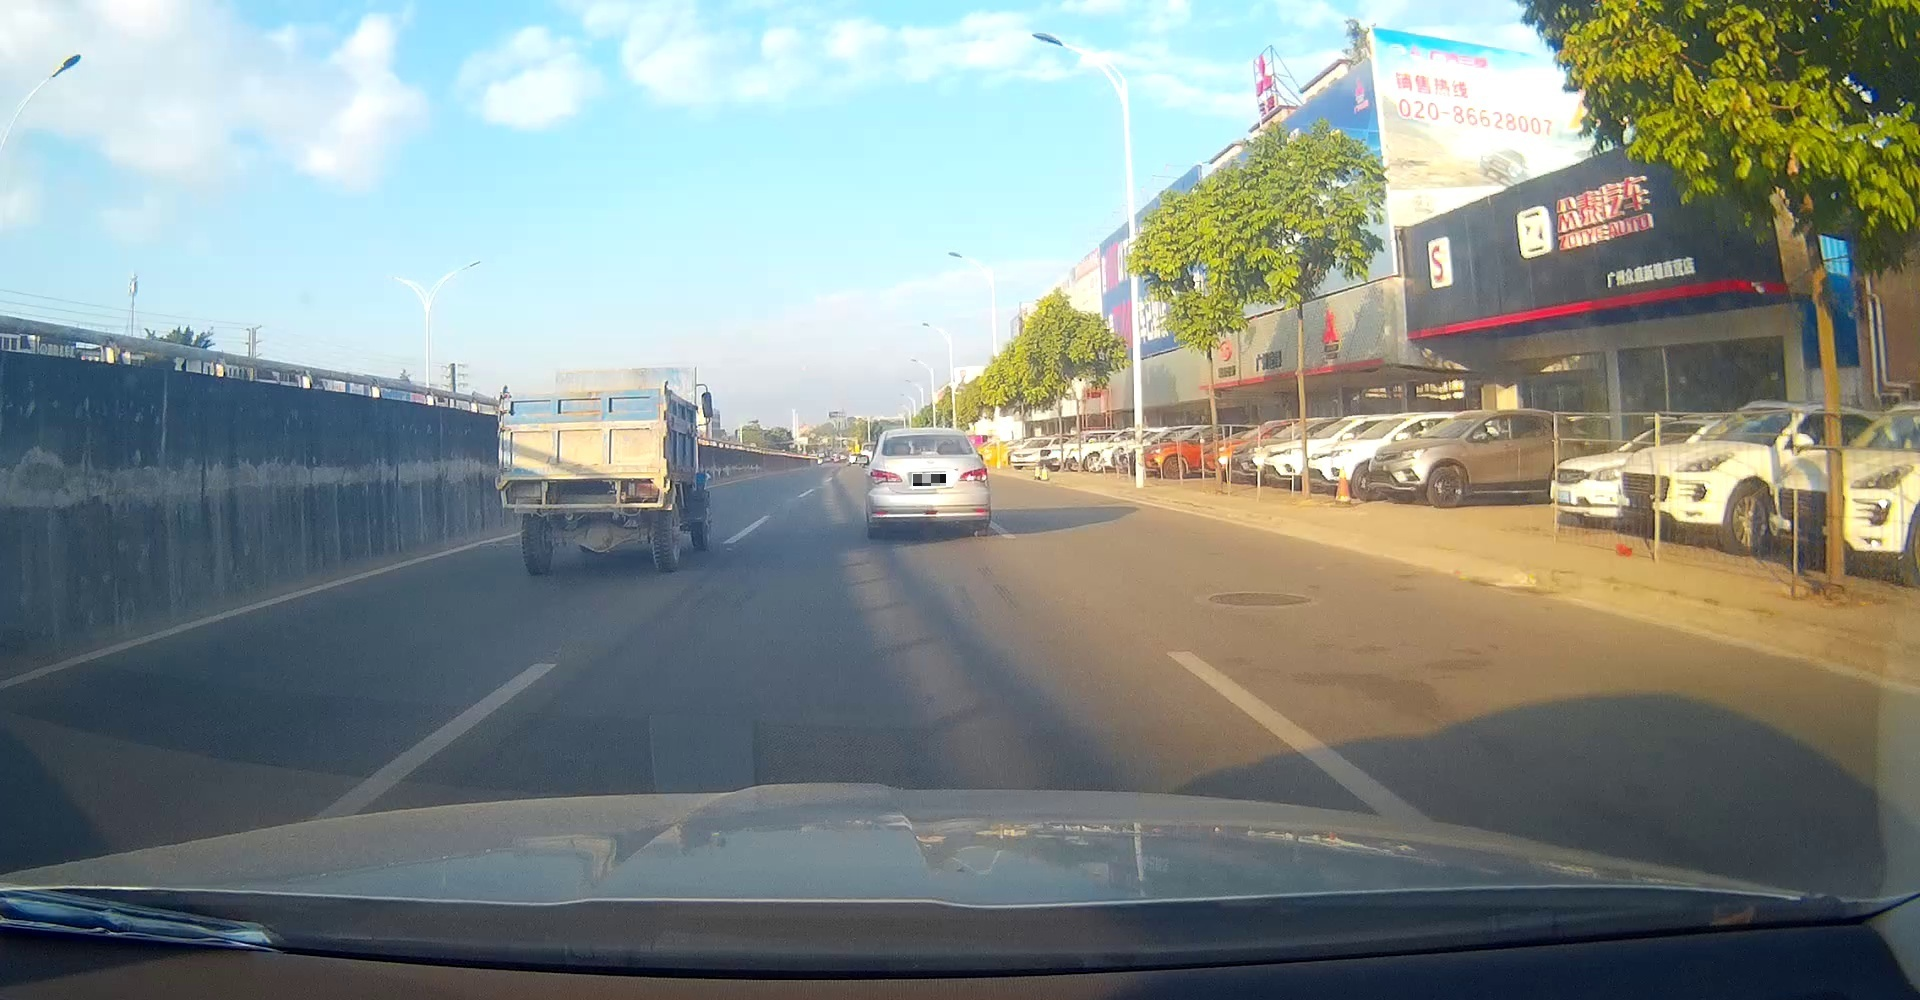L_light: (870, 468, 903, 485), (513, 484, 543, 499)
R_light: (625, 480, 658, 497), (957, 466, 988, 482)
T_light: (565, 401, 594, 412), (919, 451, 938, 457)
day-no: (497, 379, 669, 576), (869, 426, 990, 536)
plate_1: (913, 475, 946, 486)
